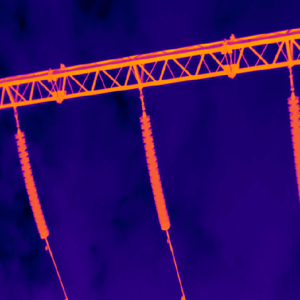insulator: (13, 126, 49, 238), (138, 108, 170, 230), (287, 90, 300, 195)
